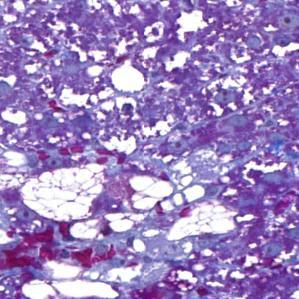ballooning: (19, 161, 111, 222), (162, 196, 238, 245)
